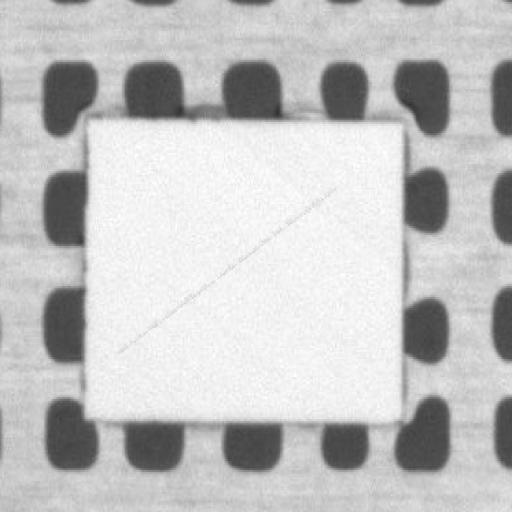DIE_CRACK: (157, 142, 441, 264)
